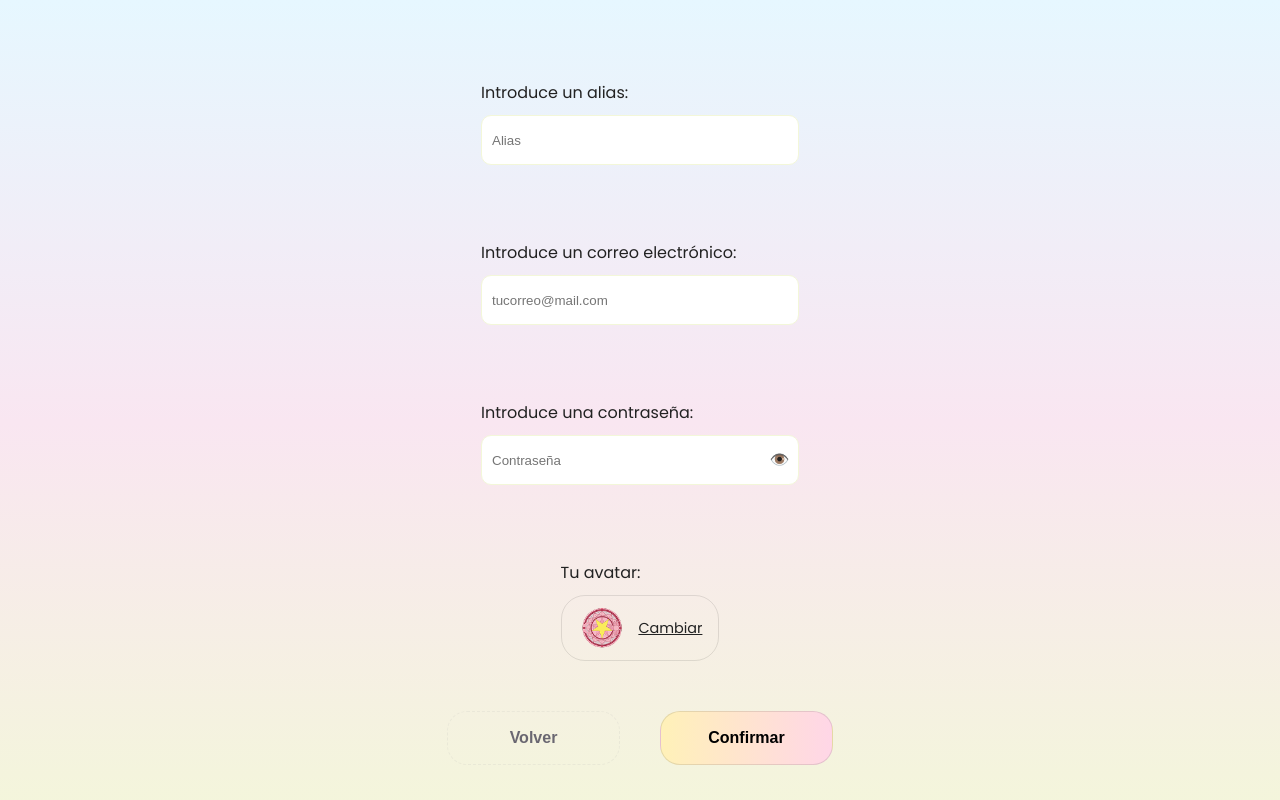
RegForm › muestra un error de validación con una contraseña corta
In the field labelled "Introduce un alias:": (640, 140) [481, 115, 799, 165], type "NuevaUsuaria"
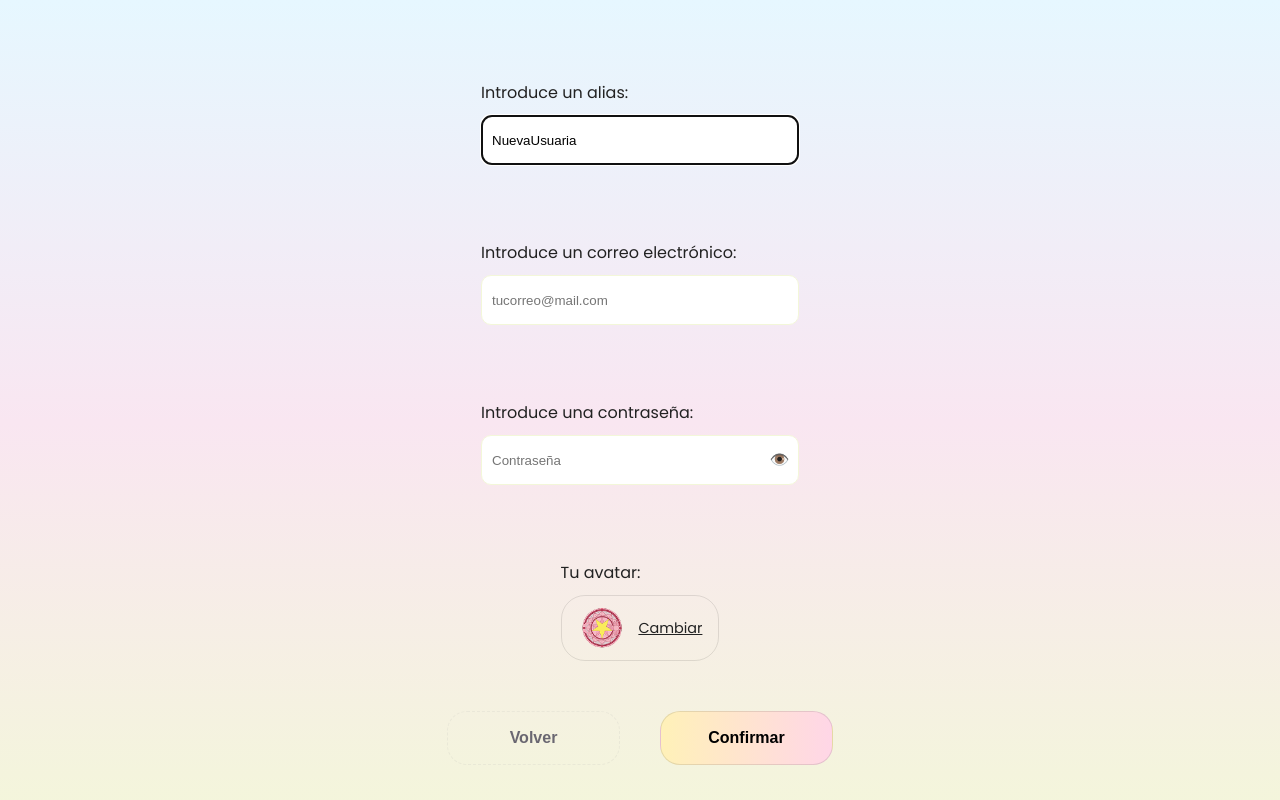
In the field labelled "Introduce un correo electrónico:": (640, 300) [481, 275, 799, 325], type "nueva@gmail.com"
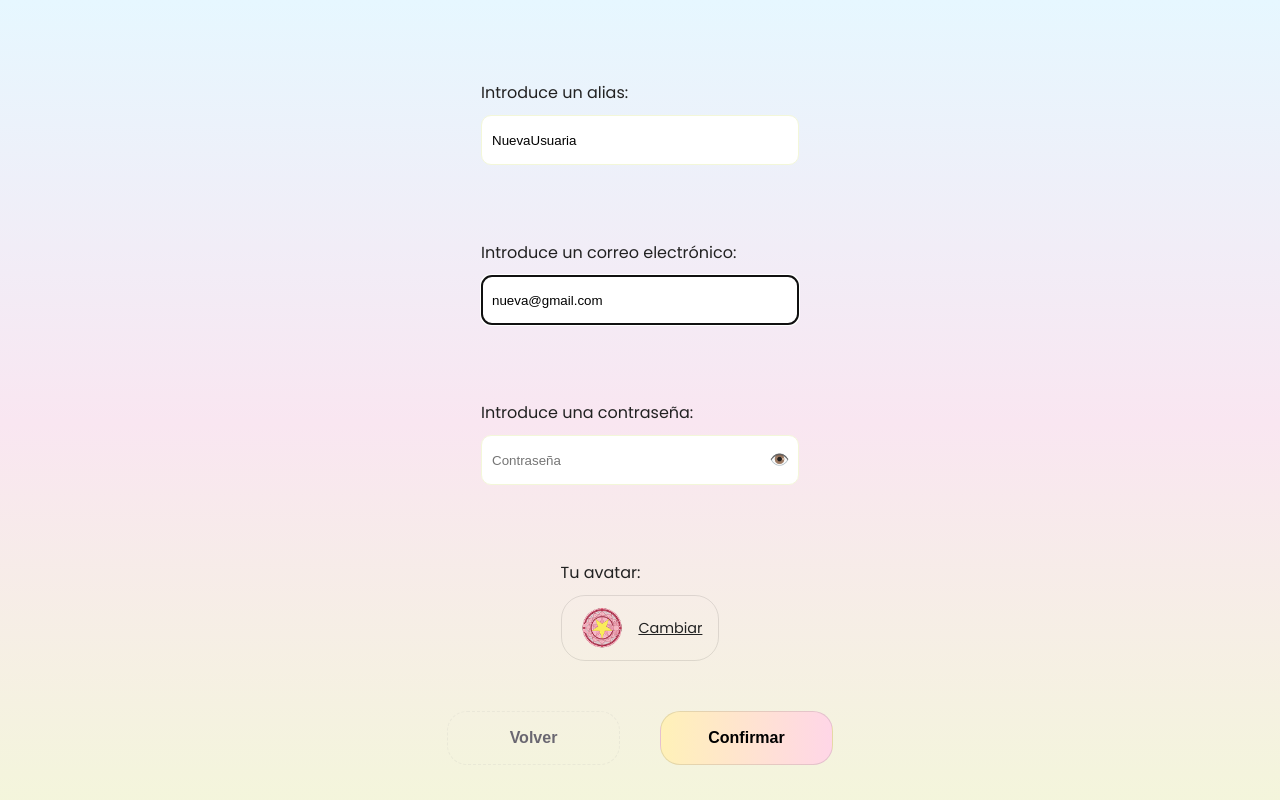
In the password field labelled "Introduce una contraseña:": (640, 460) [481, 435, 799, 485], type "1234"
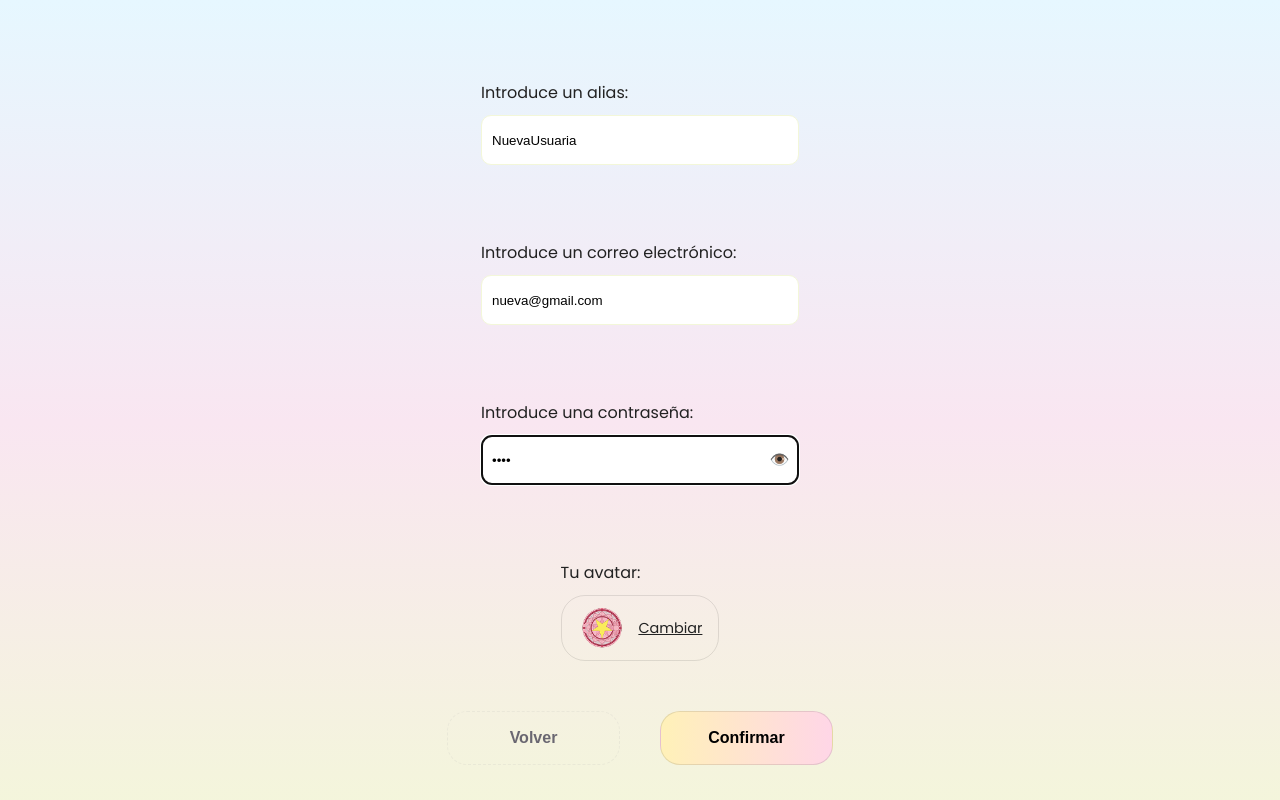
Click the button "Confirmar": (746, 738) [660, 711, 833, 765]
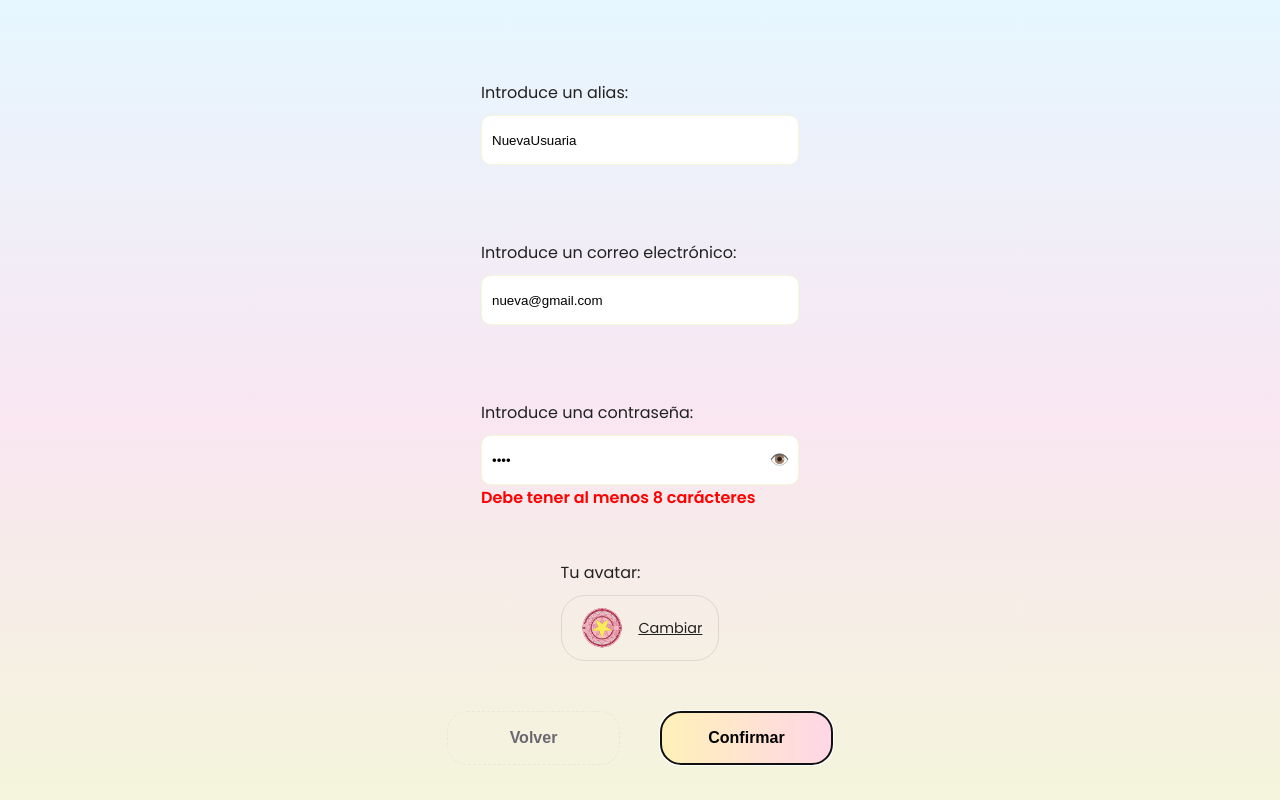
Check: the text "Debe tener al menos 8 carácteres" is shown, box [481, 485, 799, 510]
